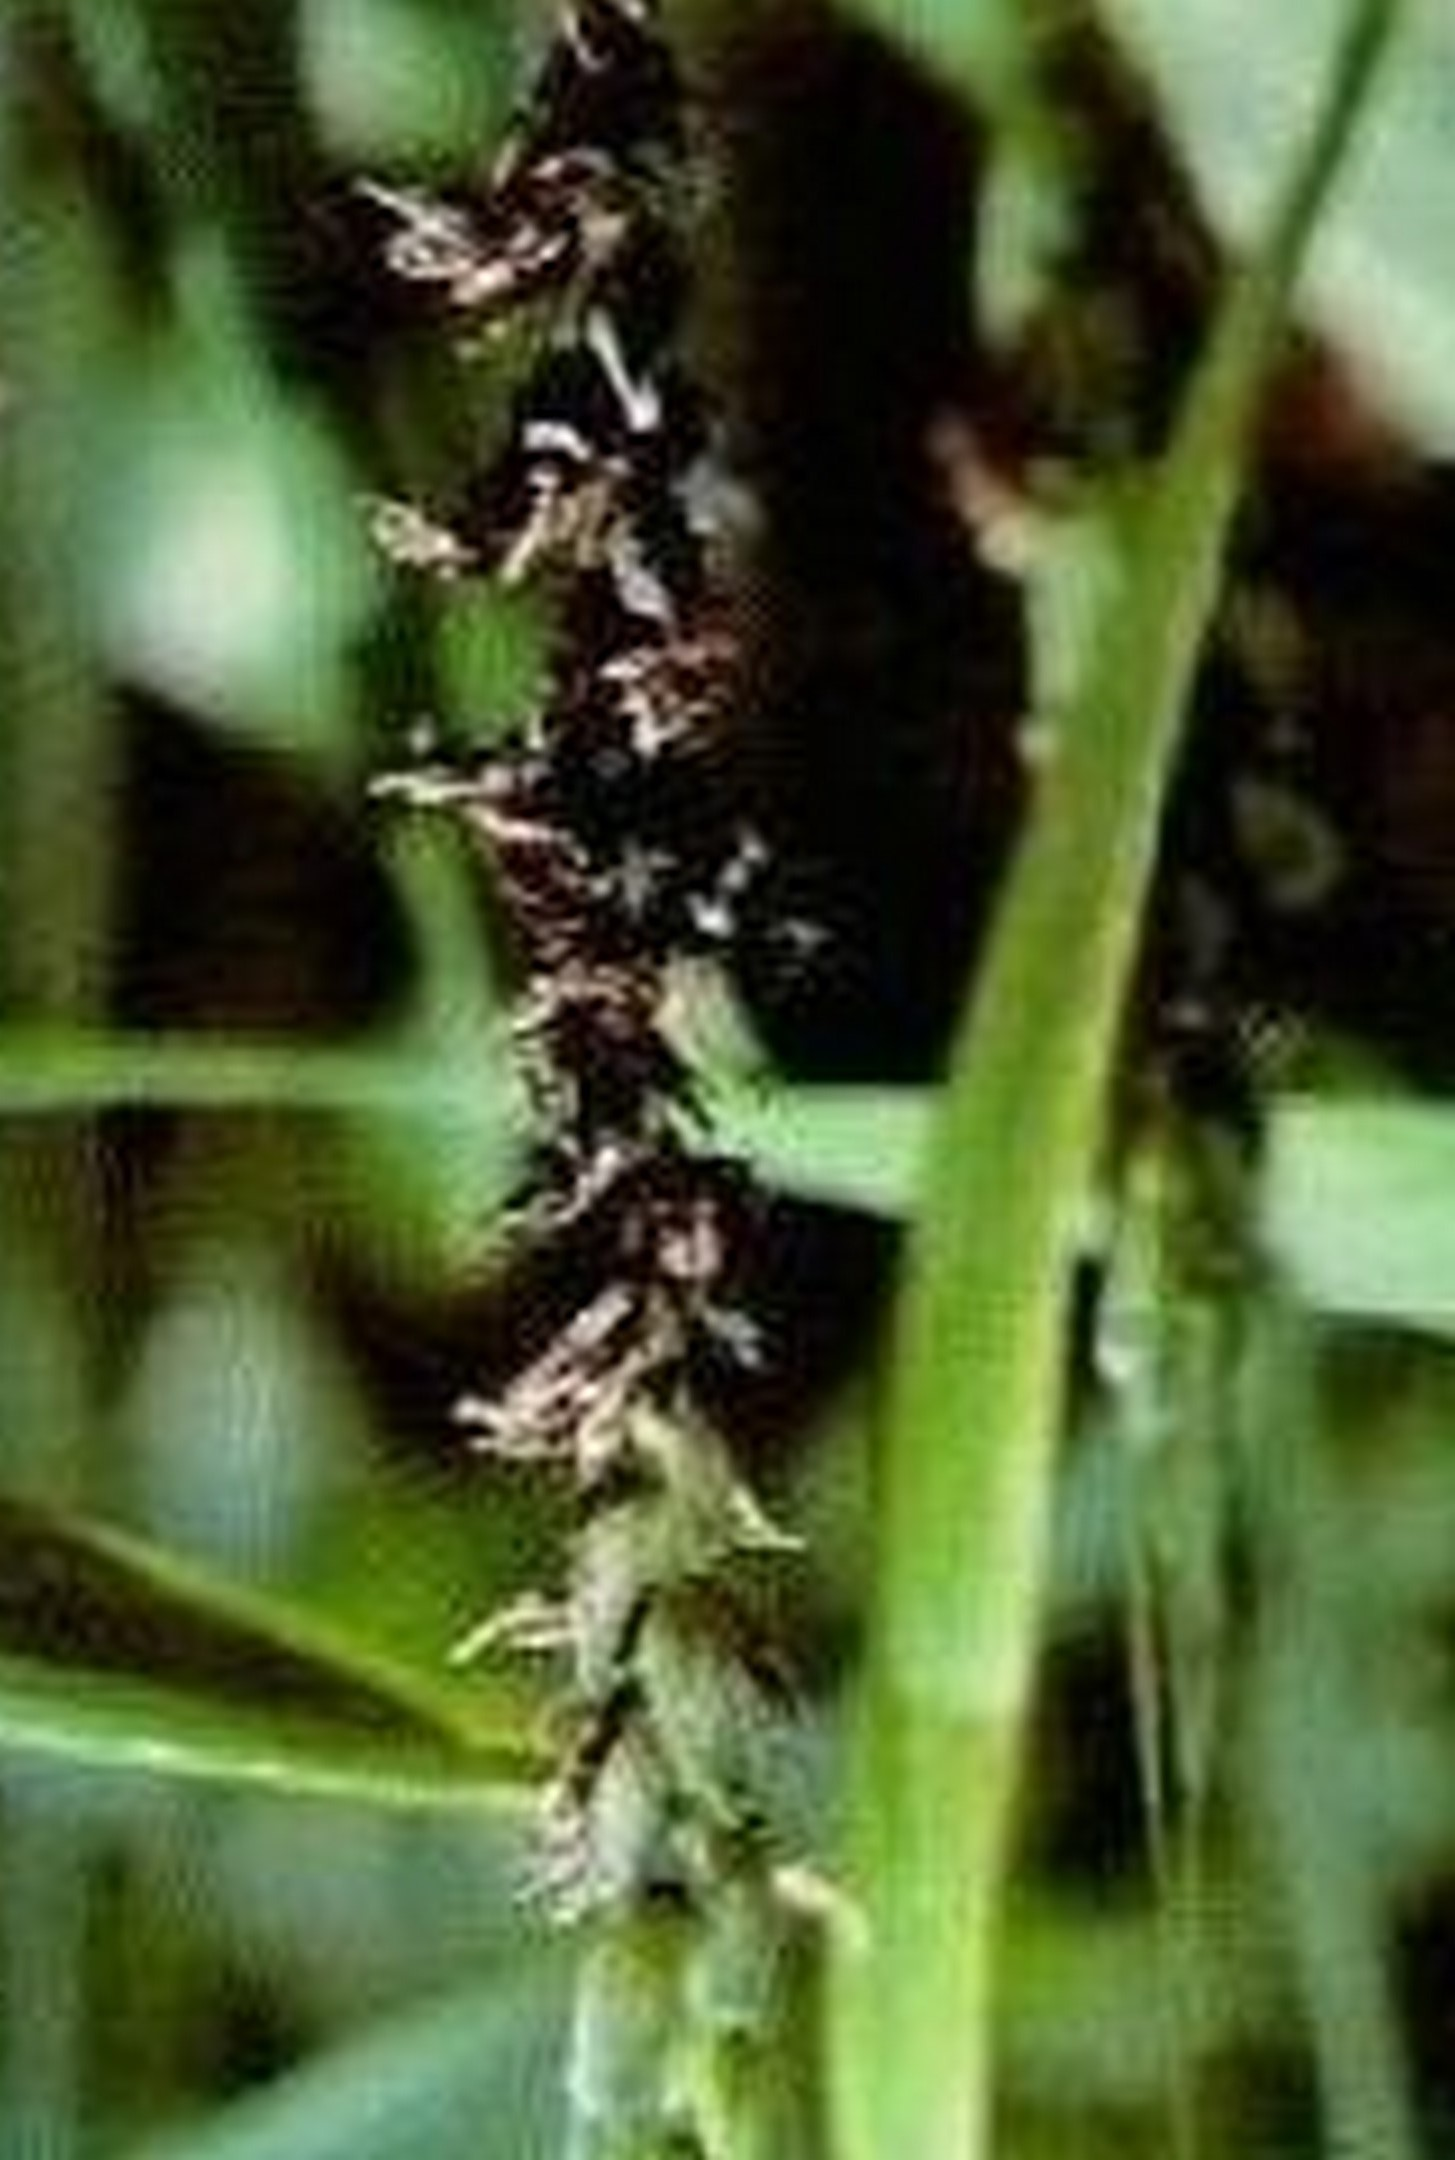Wheat Loose Smut: (370, 23, 919, 1989)
